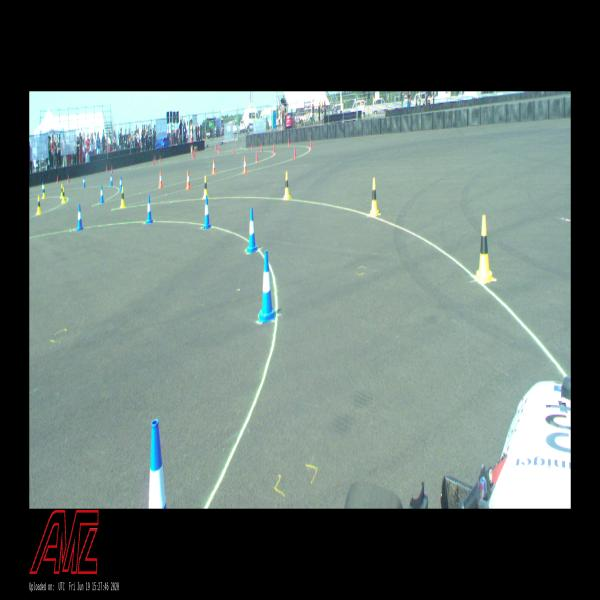blue_cone: (148, 419, 167, 509), (259, 251, 275, 322), (247, 208, 258, 252), (203, 195, 211, 229), (146, 195, 153, 223), (77, 204, 83, 230), (100, 185, 104, 203), (82, 176, 86, 188), (119, 176, 122, 191), (110, 174, 113, 186), (42, 182, 43, 194)
orange_cone: (186, 171, 191, 189), (158, 171, 163, 188), (243, 157, 247, 174), (212, 159, 216, 174)
unknown_cone: (67, 174, 70, 183), (294, 146, 296, 159), (256, 150, 258, 162), (310, 138, 312, 150), (273, 144, 275, 154), (232, 145, 234, 154), (288, 138, 290, 147), (154, 154, 156, 162), (251, 142, 253, 150), (106, 165, 108, 172), (111, 166, 113, 173), (159, 156, 161, 163), (215, 144, 217, 151), (261, 143, 262, 152), (57, 175, 58, 183), (153, 158, 154, 166), (194, 151, 195, 159), (192, 150, 193, 157), (219, 146, 220, 153), (217, 146, 218, 152)
yellow_cone: (475, 215, 494, 282), (370, 178, 379, 216), (284, 171, 290, 199), (120, 187, 126, 208), (203, 175, 208, 199), (37, 195, 41, 215), (62, 187, 66, 203), (42, 185, 46, 198), (60, 184, 63, 198)
